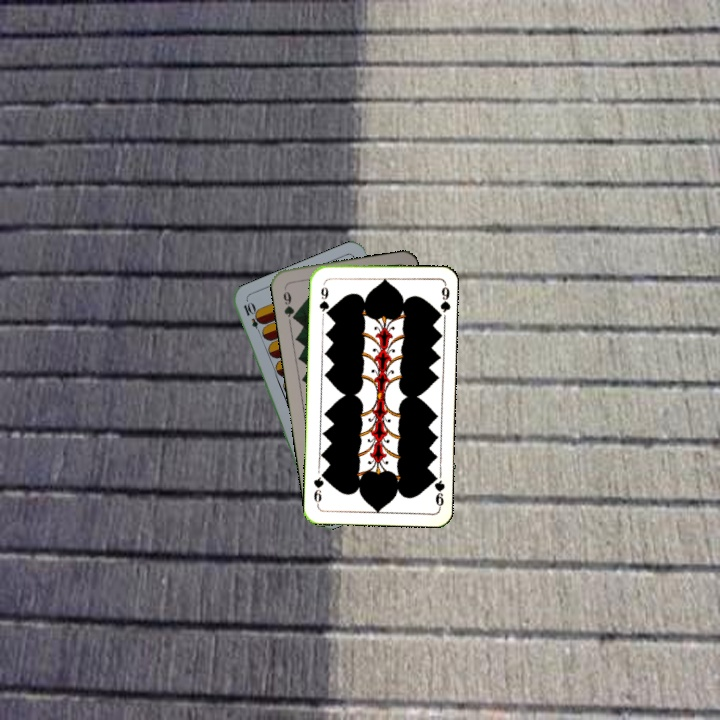E10: (239, 298, 265, 338)
G9: (428, 470, 447, 510), (279, 287, 299, 323), (315, 278, 331, 318)
